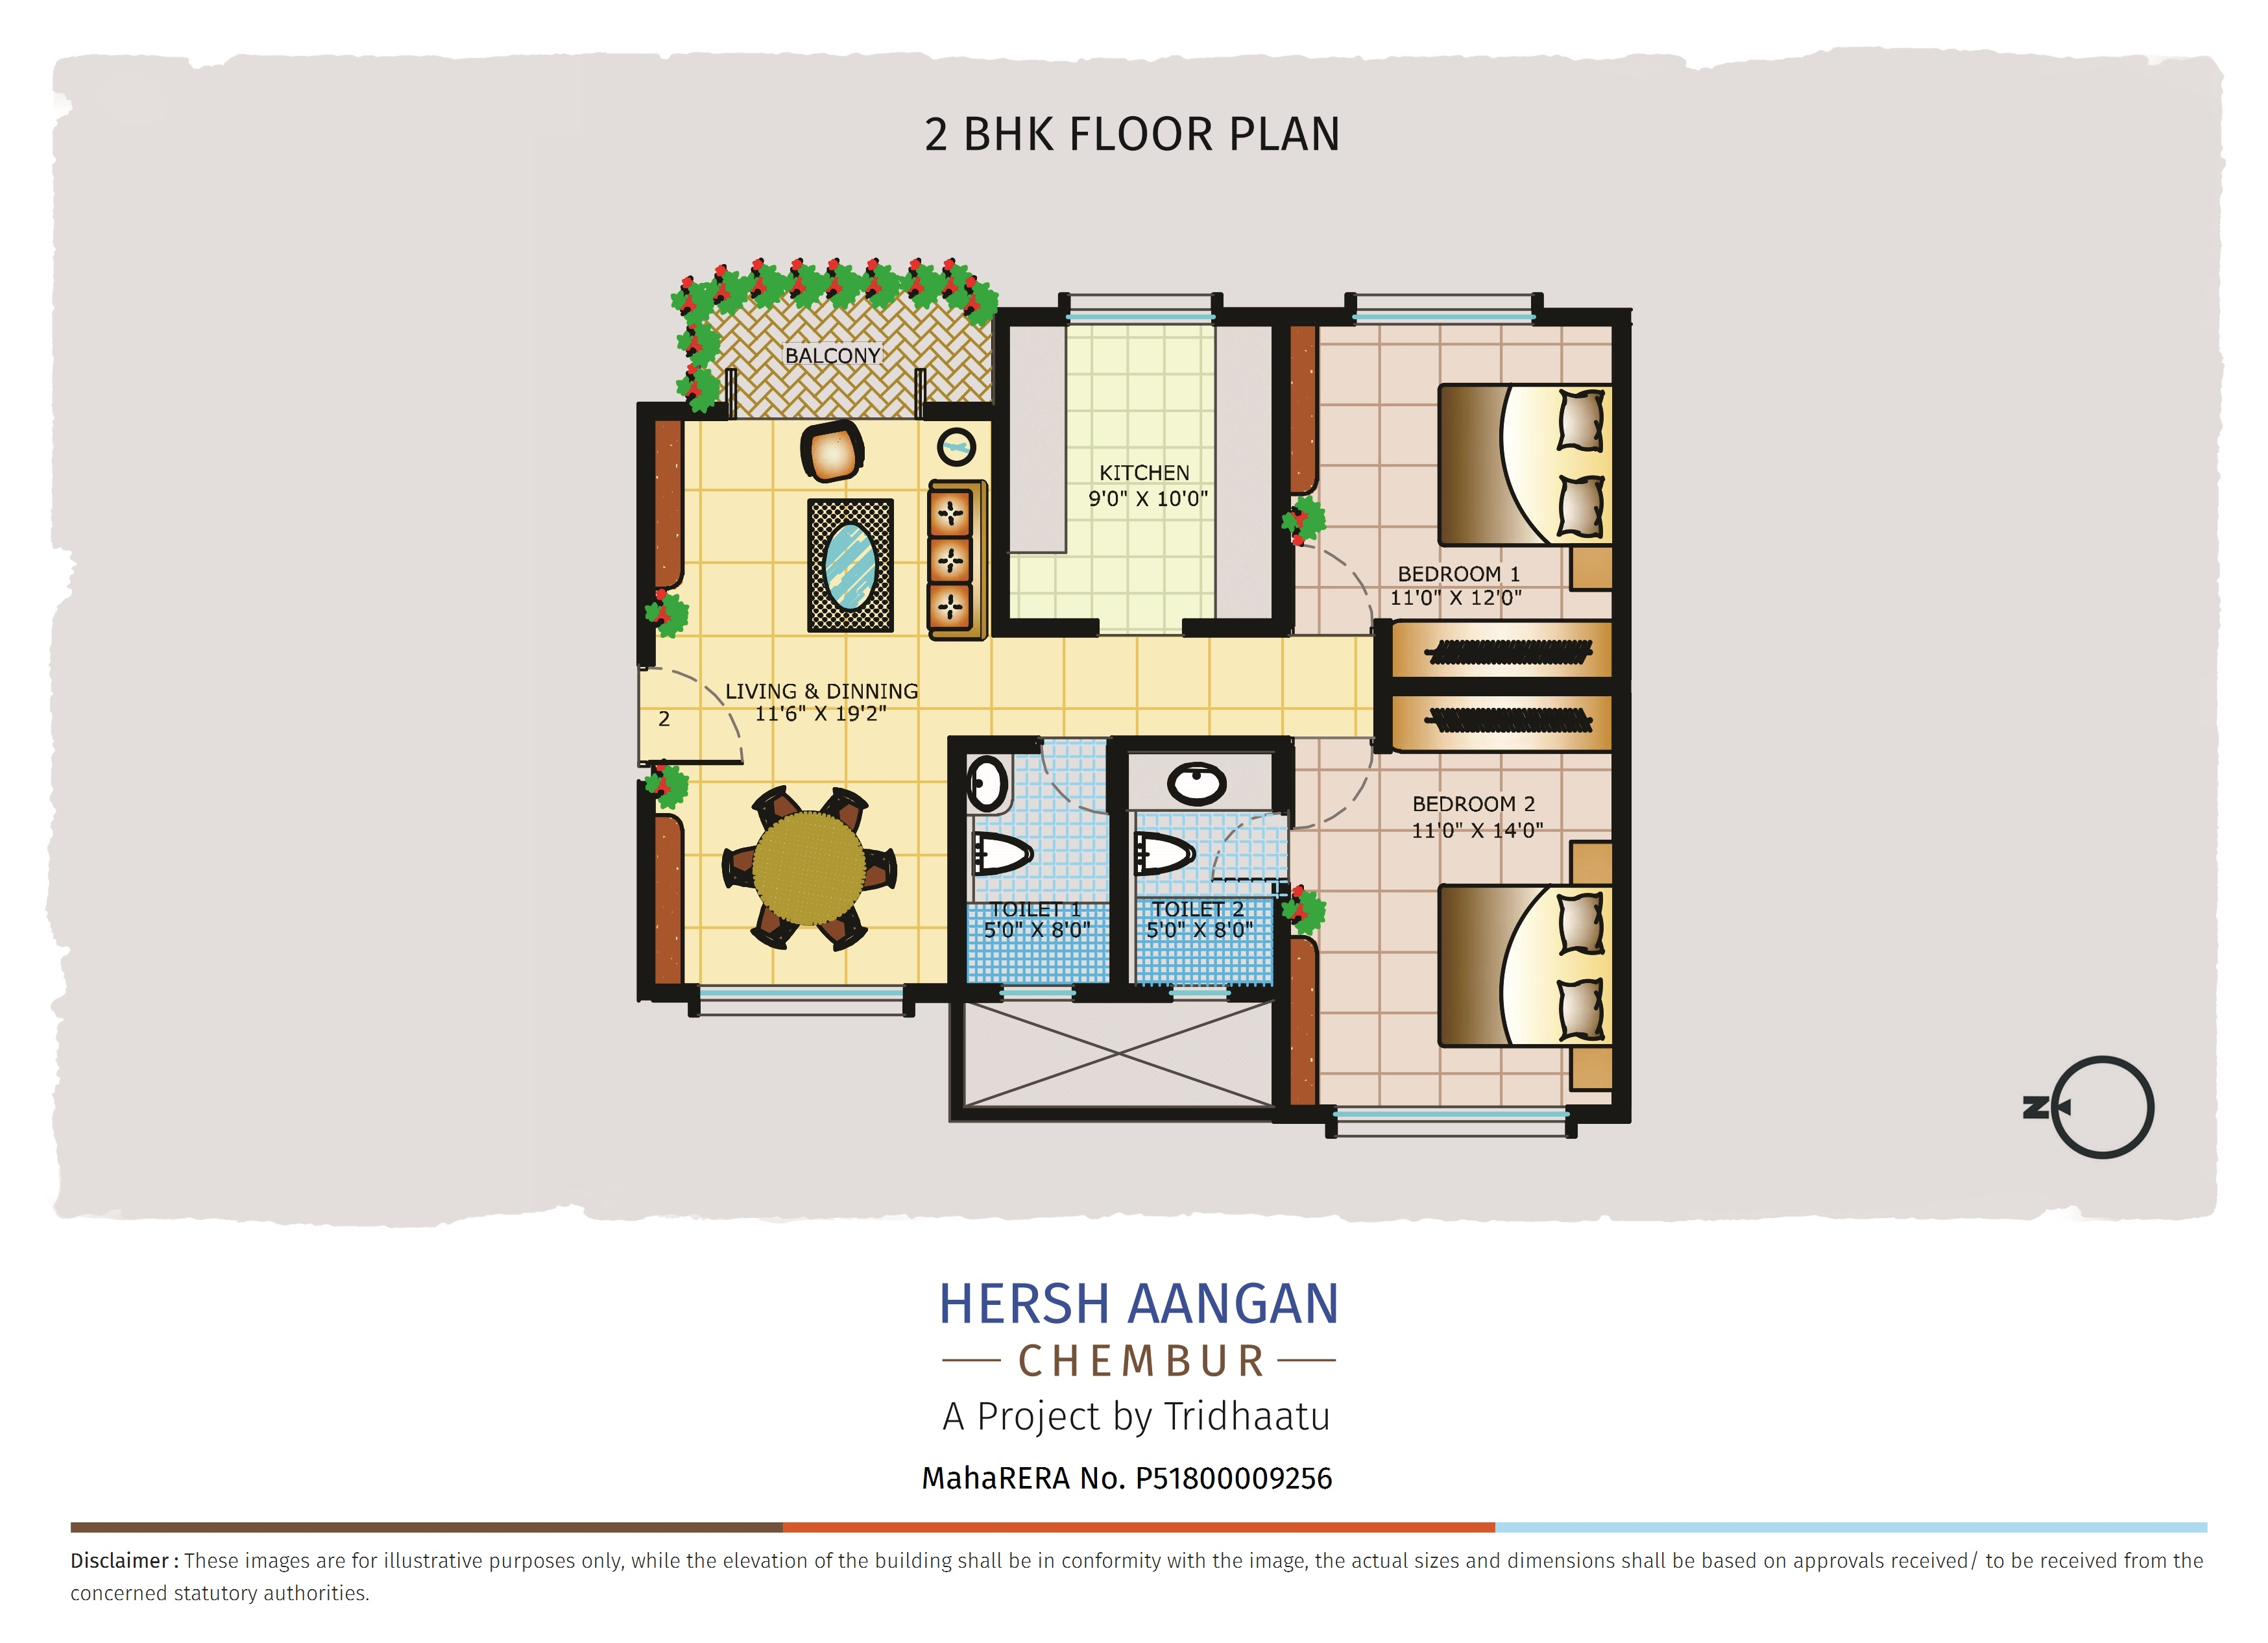window: (1333, 1104, 1567, 1139), (1352, 291, 1534, 328), (697, 984, 907, 1016), (1067, 292, 1213, 328)
